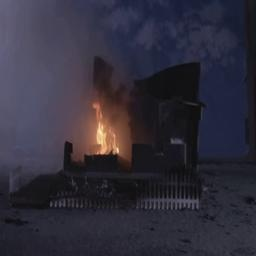fire: (81, 94, 130, 156)
smoke: (1, 0, 72, 126)
